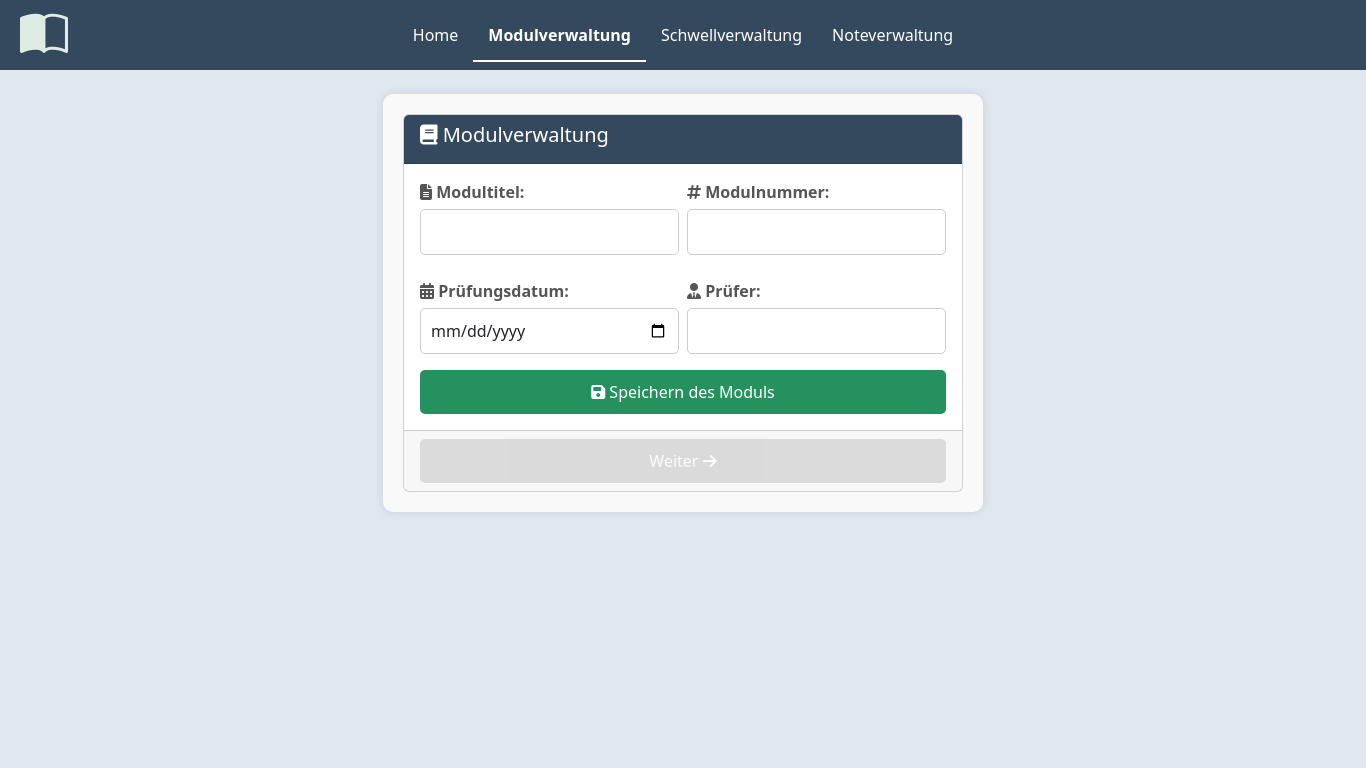
Test: Module Creation › devrait créer un module avec les données stockées
// Remplir les champs du formulaire
Type "OOP" into the field named "moduleTitle".
click(550, 232); type("OOP")  # box 420,209 -> 679,255
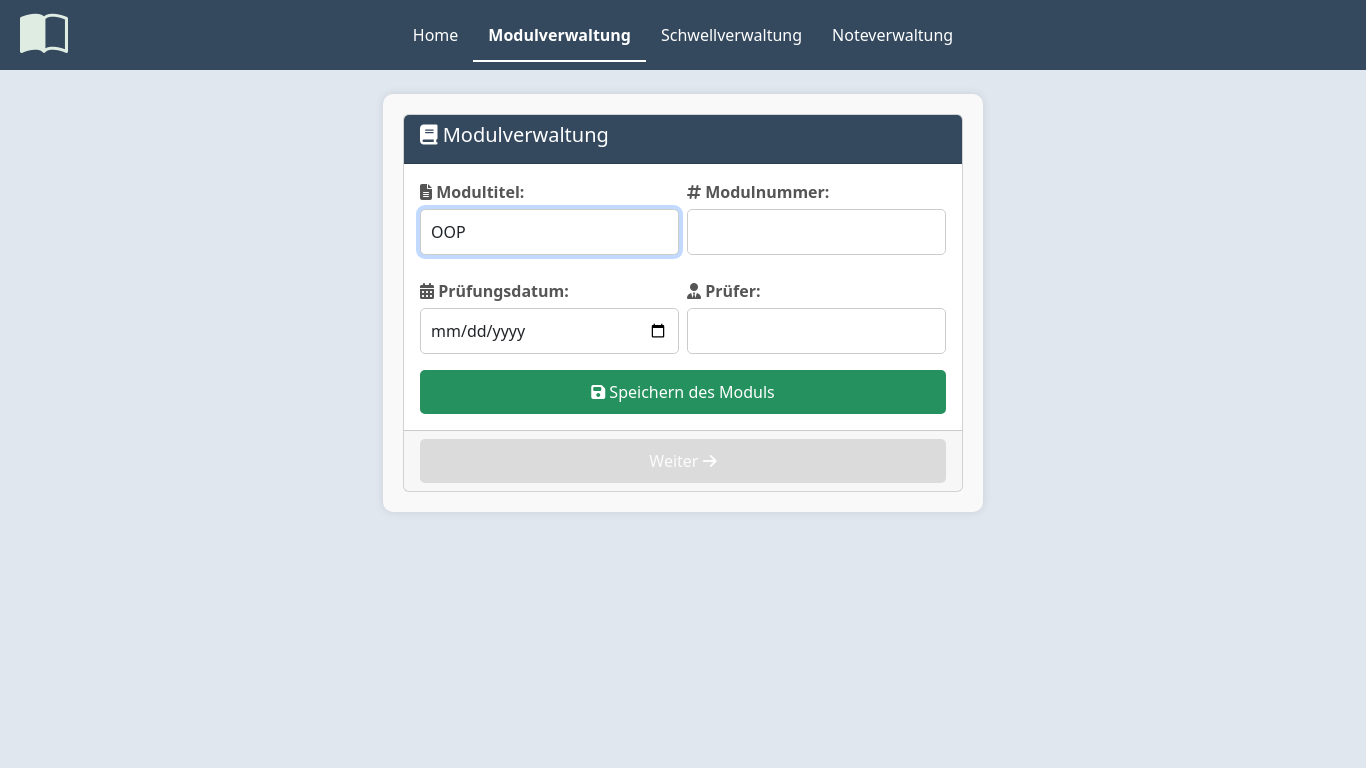
Type "oop123" into the field named "moduleNumber".
click(817, 232); type("oop123")  # box 687,209 -> 946,255
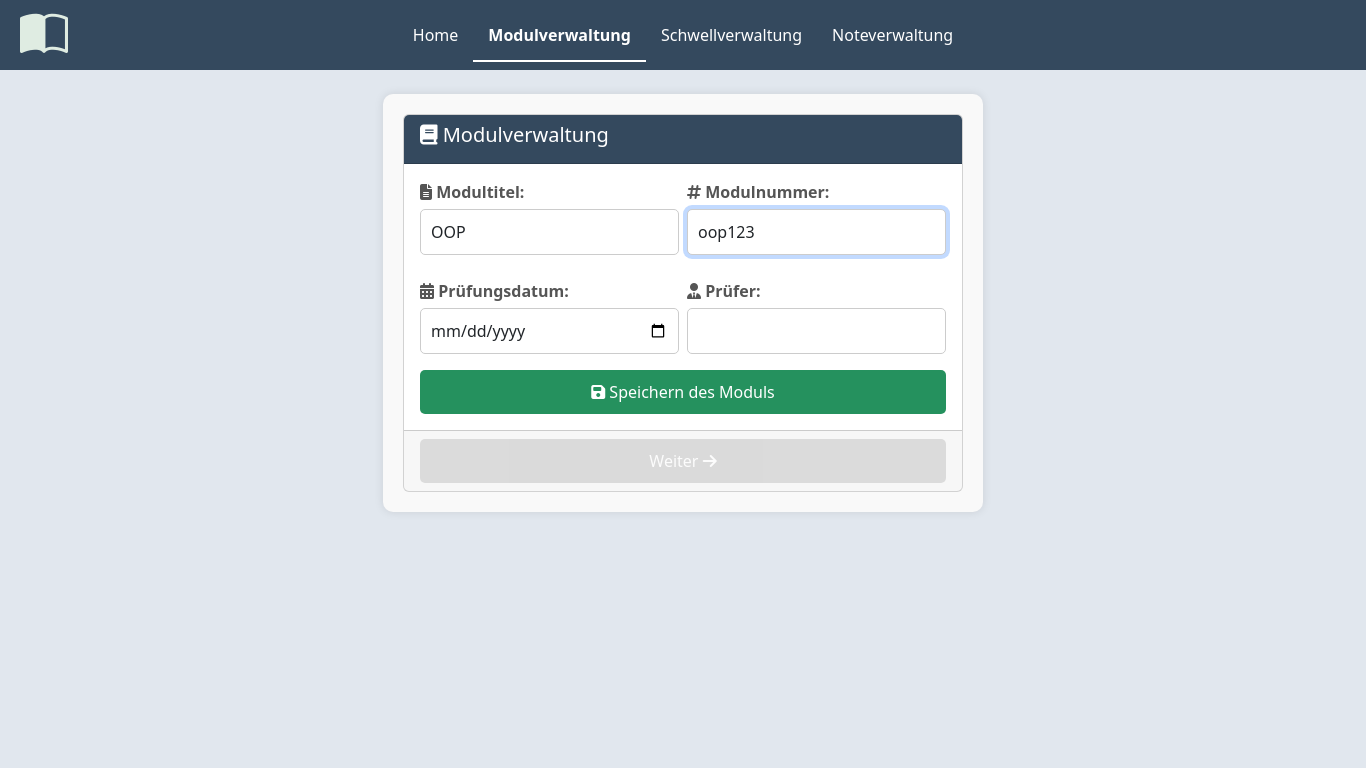
Type "2025-04-17" into the date field named "examDate".
click(550, 331); type("2025-04-17")  # box 420,308 -> 679,354
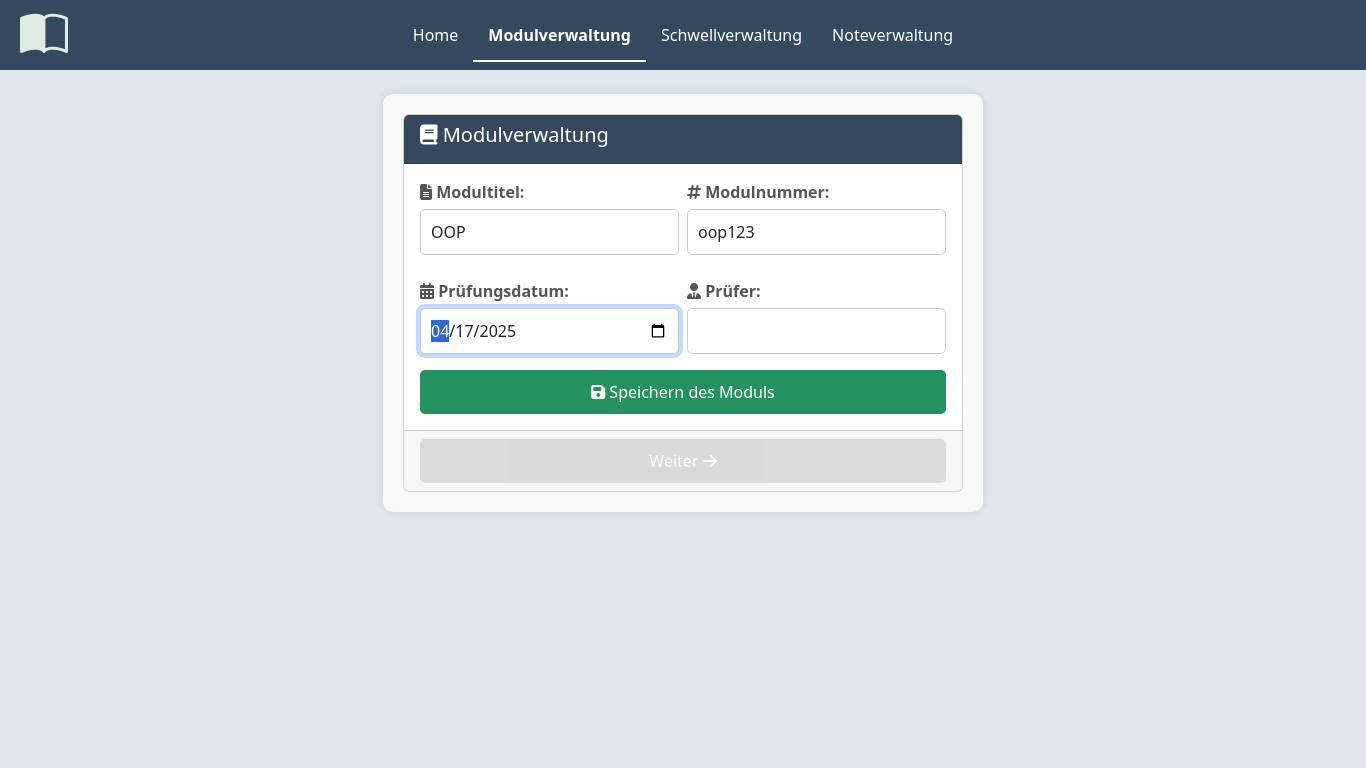
Type "Karen" into the field named "examiners".
click(817, 331); type("Karen")  # box 687,308 -> 946,354
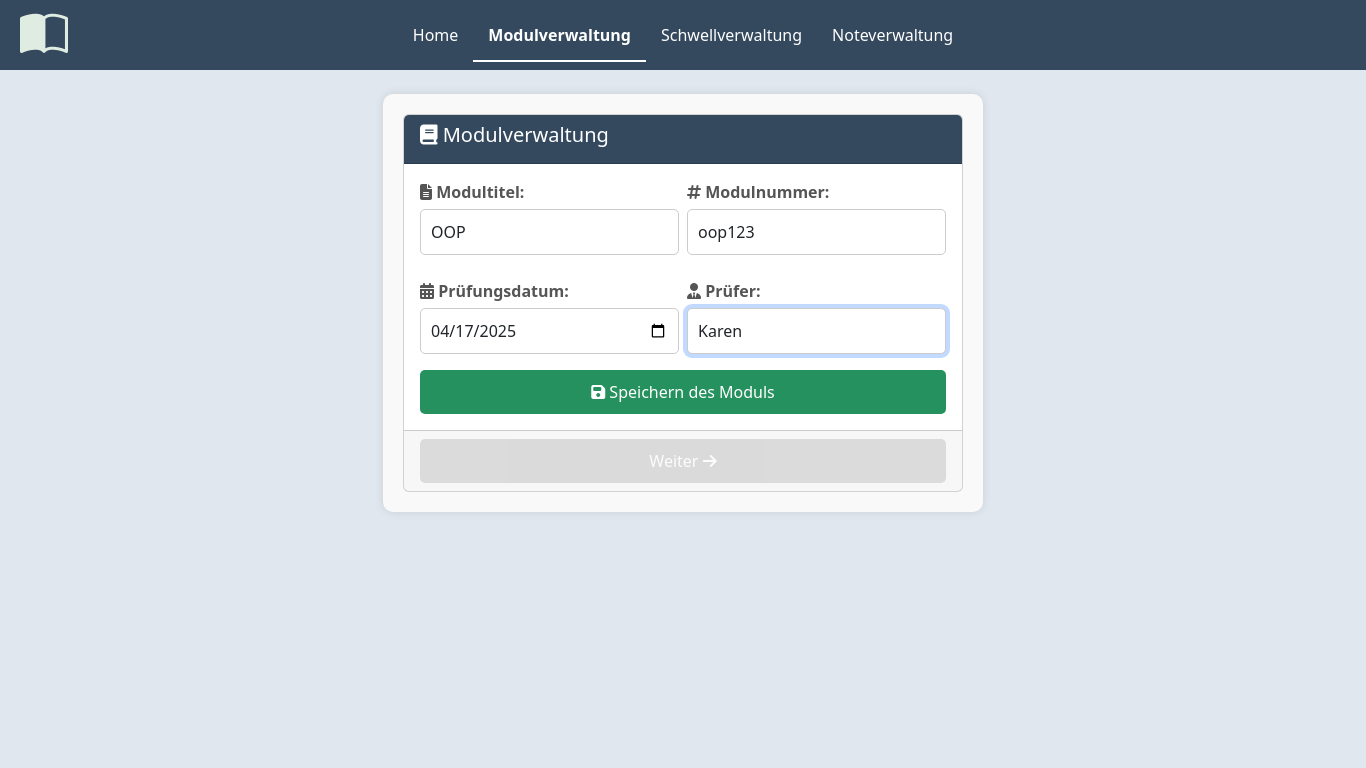
// Cliquer pour enregistrer
Click the button "Speichern des Moduls".
click(683, 392)  # box 420,370 -> 946,414
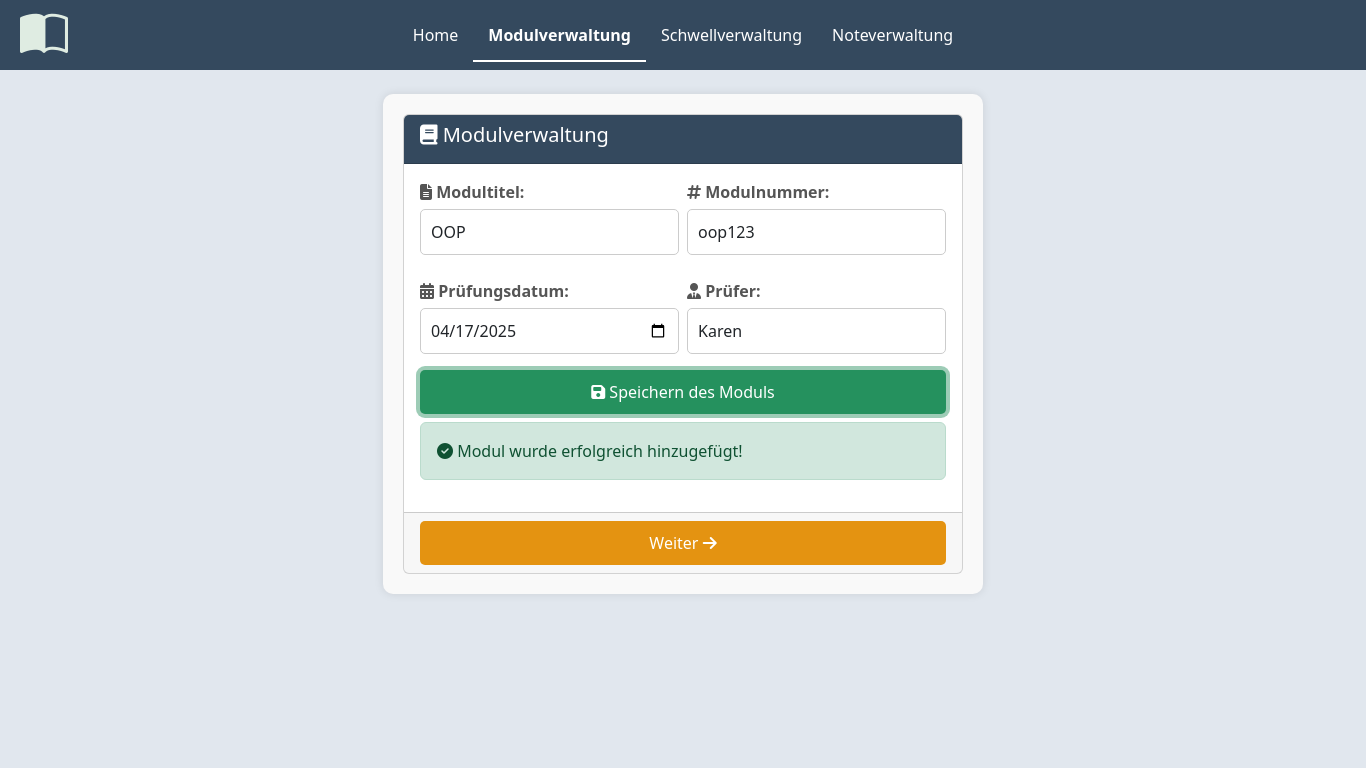
Check: the text "Modul wurde erfolgreich hinzugefügt!" is shown, box 420,422 -> 946,480
